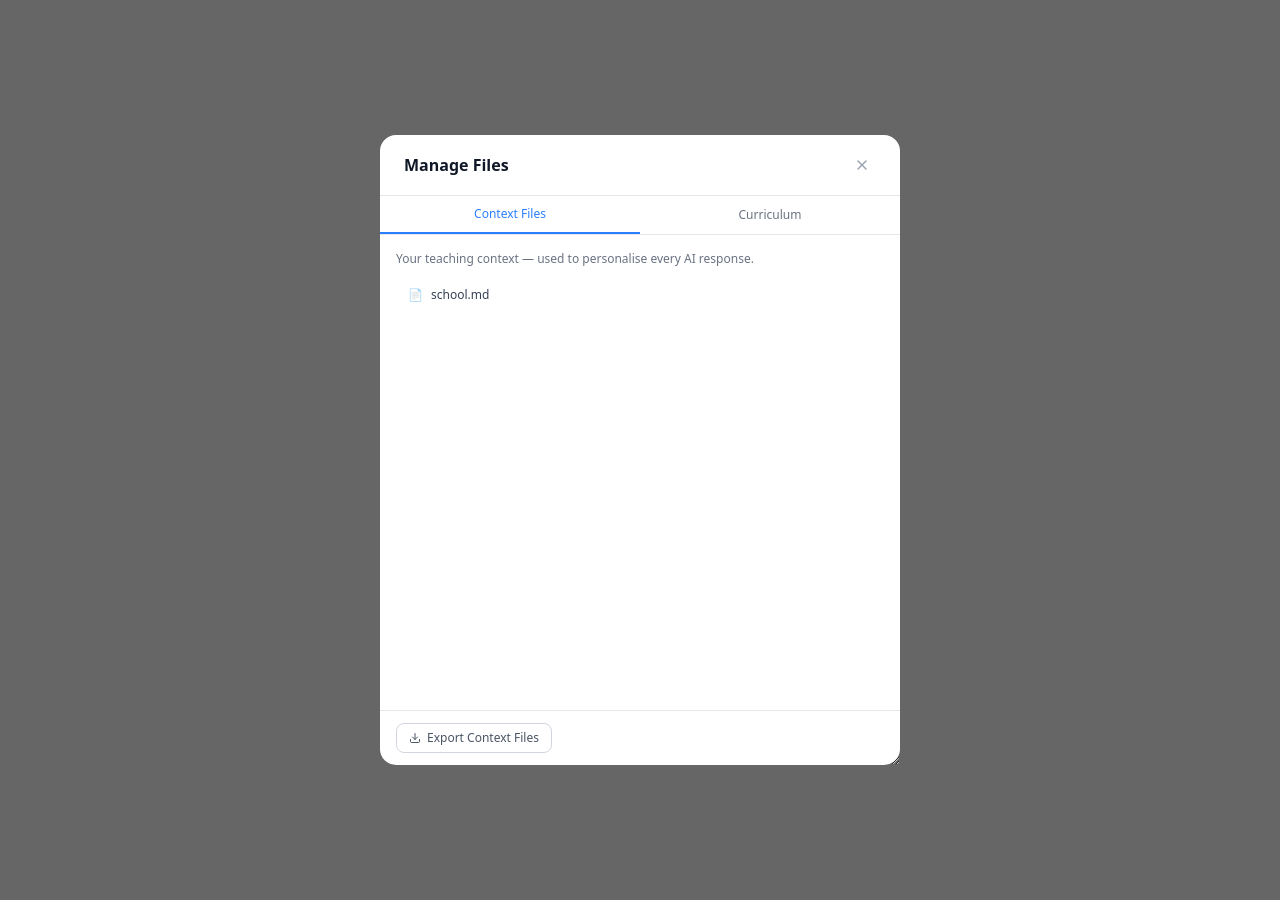
Test case: ManageFilesModal › shows preview when a file is clicked
Click the button "📄 school.md": (460, 294) x1=396 y1=279 x2=884 y2=311
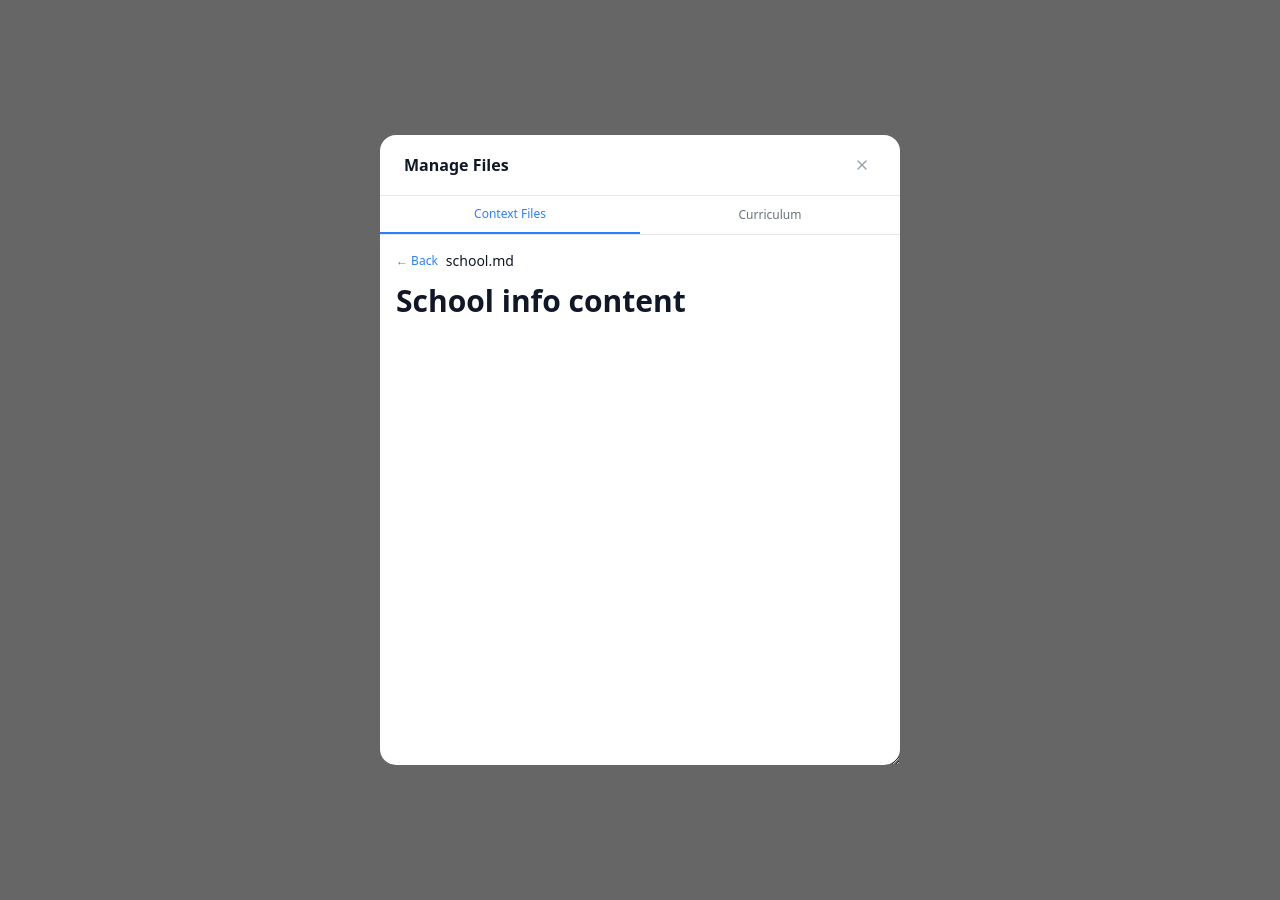
Now the heading "School info content" is shown, box x1=396 y1=280 x2=686 y2=321
